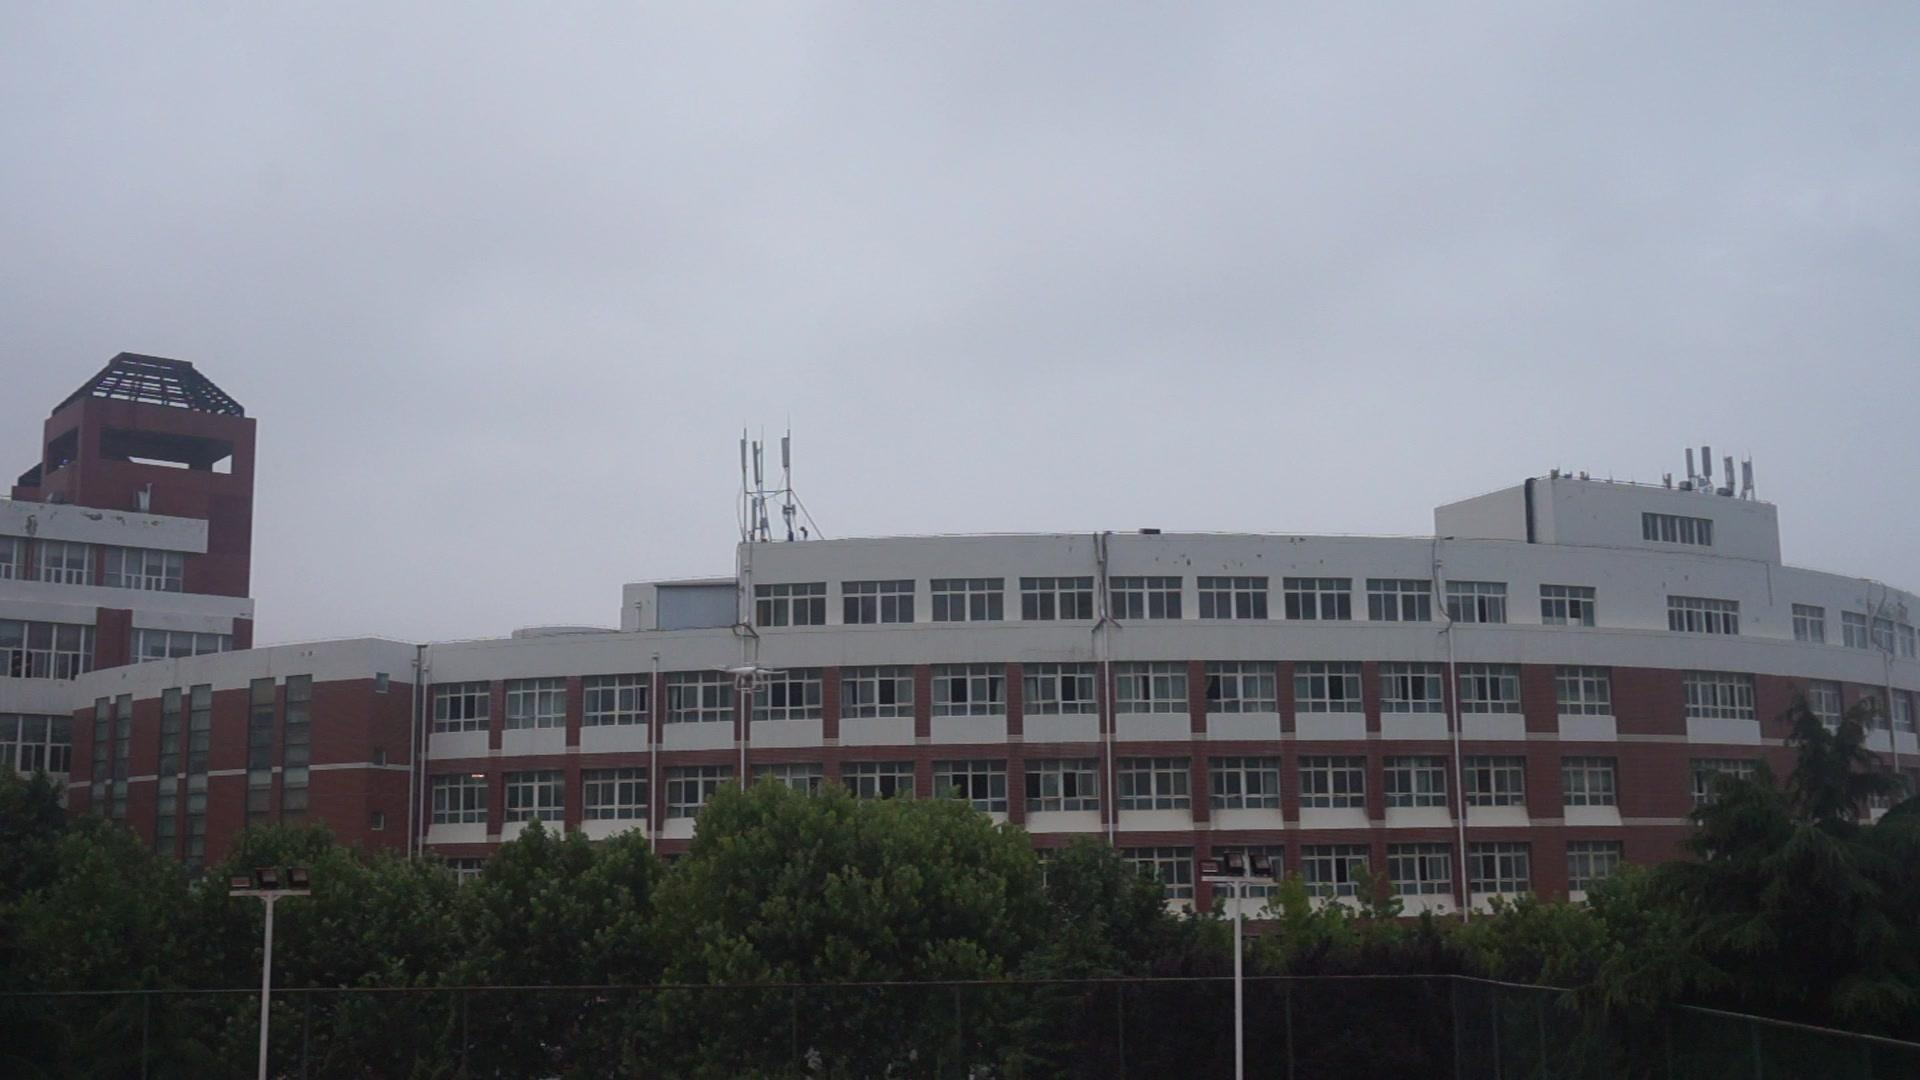UAV: (715, 666, 789, 694)
